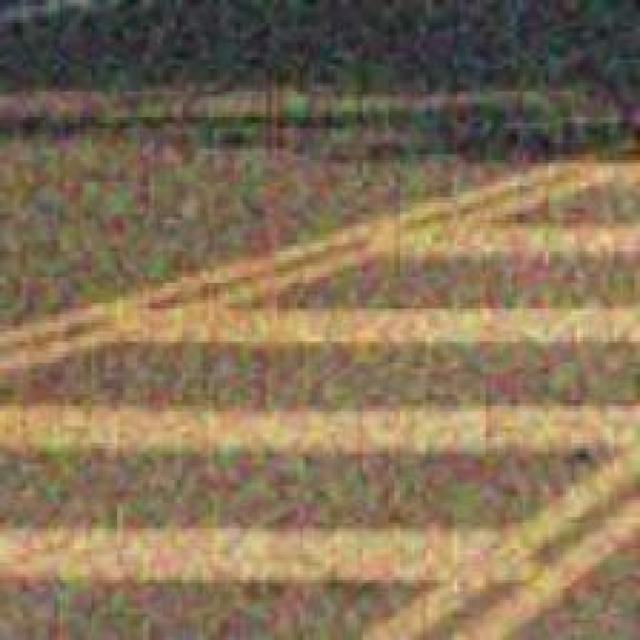walk-crossing: (1, 162, 640, 640)
